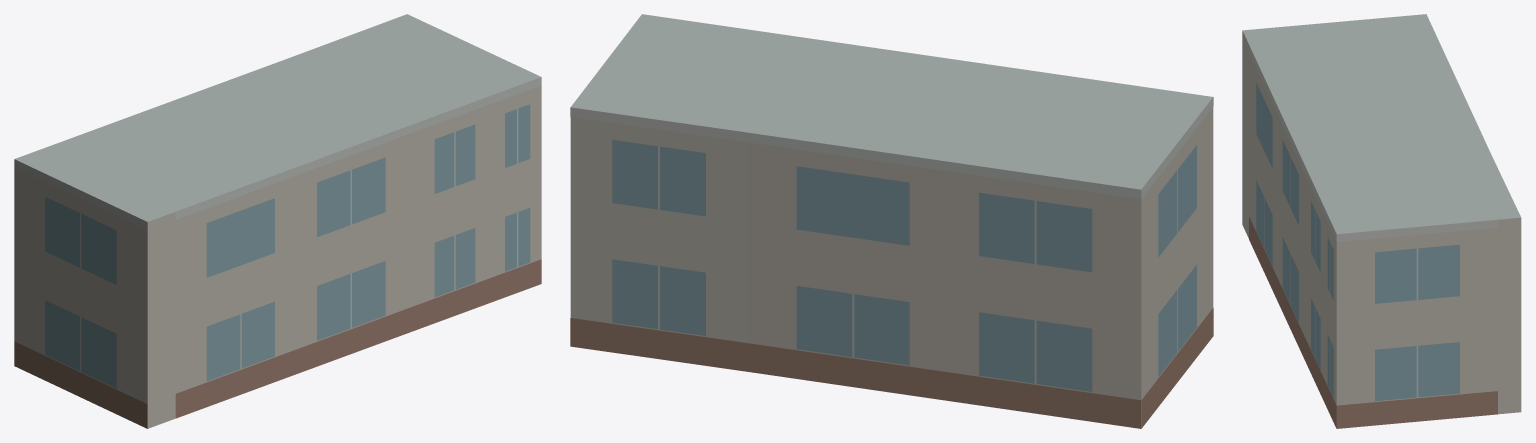
File: survey-upis-32644404.glb
3 views of the same model, side by side, from view 1: azimuth 30°, elevation 25°; view 2: azimuth 150°, elevation 25°; view 3: azimuth 270°, elevation 25° (orthographic). The views are drawn at different scales.
Visible parts, largest first — view 1: survey-upis-32644404.tmp; view 2: survey-upis-32644404.tmp; view 3: survey-upis-32644404.tmp.
Boxes of the visible parts, bbox=[...] form: survey-upis-32644404.tmp: bbox=[14, 14, 541, 428]; survey-upis-32644404.tmp: bbox=[570, 14, 1213, 428]; survey-upis-32644404.tmp: bbox=[1242, 14, 1521, 428].
Size of the model in its own units: 14.81 by 6.1 by 7.93.
